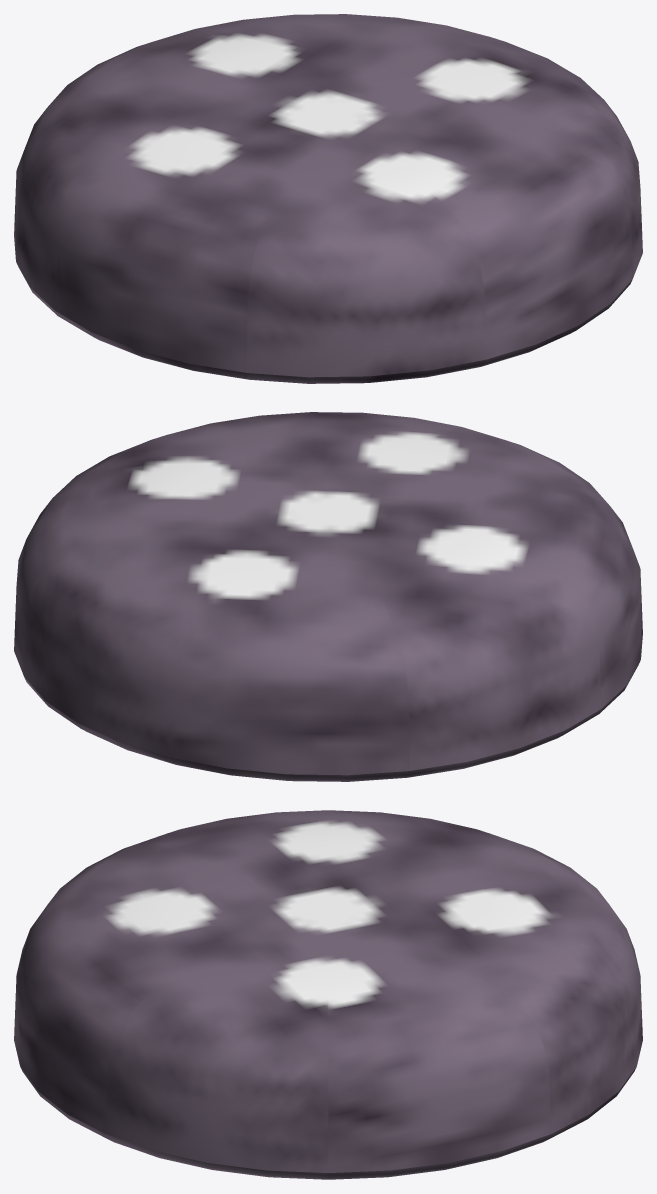
The model's file is BlackPiece.glb.
3 views of the same model, one above another, from view 1: azimuth 30°, elevation 25°; view 2: azimuth 150°, elevation 25°; view 3: azimuth 270°, elevation 25° (orthographic).
Visible parts, largest first — view 1: Black Piece; view 2: Black Piece; view 3: Black Piece.
Boxes of the visible parts, <box> form: Black Piece: <box>14,14,642,383</box>; Black Piece: <box>14,412,642,781</box>; Black Piece: <box>14,810,642,1179</box>.
Bounding box in the file's own units: 0.5664 × 0.1477 × 0.5664.
Materials: 1 (1 with a texture image).
